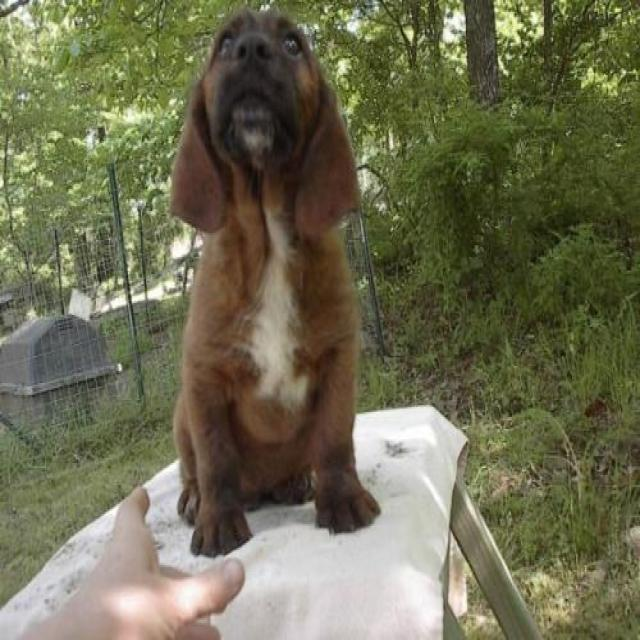dog: (167, 7, 397, 570)
